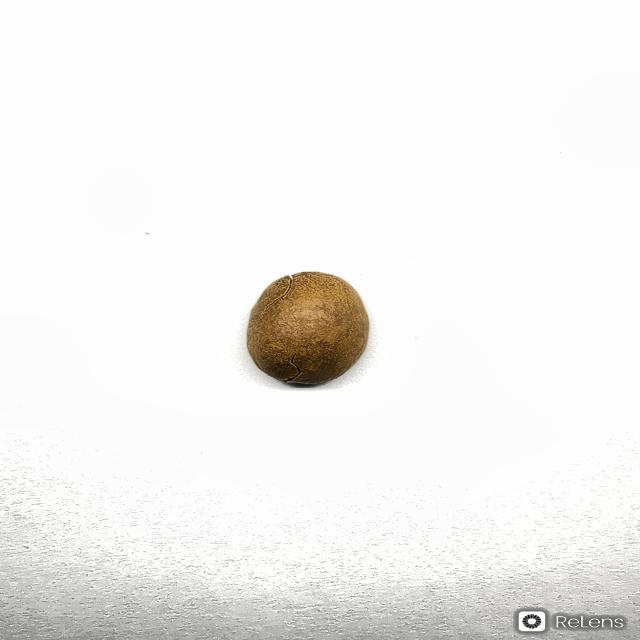Quaker: (245, 270, 370, 385)
